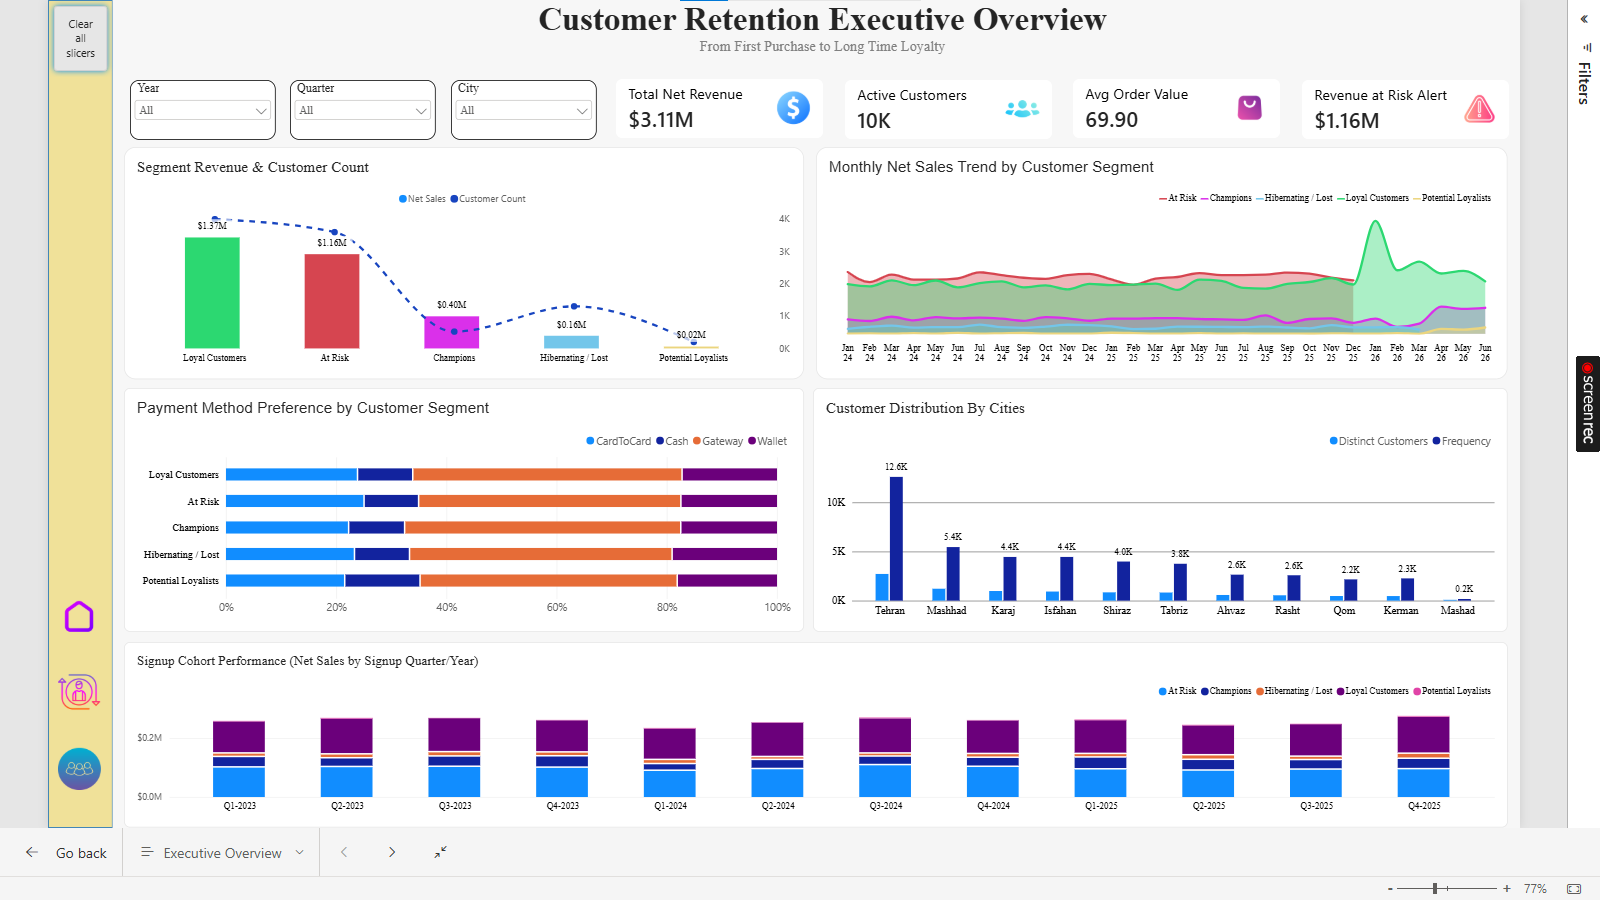

This screenshot's page, from the dashboard's own definition file:
{"tool":"powerbi","page":{"name":"Executive Overview","canvas":[1920,1080],"ordinal":0},"visuals":[{"type":"shape","box":[0,0,84.4,1080],"z":0,"group":"g3"},{"type":"cardVisual","fields":{"Data":["Measure Table.Net Sales"]},"box":[740.3,103.5,270,77],"z":0,"group":"g1"},{"type":"slicer","fields":{"Values":["dim_date.Date.Variation.Date Hierarchy.Year"]},"box":[106.3,104.6,190,77.6],"z":0,"group":"g2"},{"type":"lineClusteredColumnComboChart","title":"Segment Revenue & Customer Count","fields":{"Category":["dim_customers.Customer Segment"],"Y":["Measure Table.Net Sales"],"Y2":["Measure Table.Distinct Customers"]},"box":[99.6,191.4,886.8,302.7],"z":0},{"type":"slicer","fields":{"Values":["dim_date.Date.Variation.Date Hierarchy.Quarter"]},"box":[315.5,104.6,190,77.6],"z":1000,"group":"g2"},{"type":"cardVisual","fields":{"Data":["Measure Table.Distinct Customers"]},"box":[1038.5,105.5,270,77],"z":1000,"group":"g1"},{"type":"lineChart","title":"Monthly Net Sales Trend by Customer Segment","fields":{"Category":["dim_date.Month-Year"],"Series":["dim_customers.Customer Segment"],"Y":["Measure Table.Net Sales"]},"box":[1002,191.4,902.4,302.7],"z":1000},{"type":"image","box":[13.5,771.2,55,65],"z":1000,"group":"g3"},{"type":"cardVisual","fields":{"Data":["Measure Table.Avg Order Value"]},"box":[1336.7,103.5,270,77.6],"z":2000,"group":"g1"},{"type":"slicer","fields":{"Values":["dim_customers.City"]},"box":[524.8,104.6,190,77.6],"z":2000,"group":"g2"},{"type":"hundredPercentStackedBarChart","title":"Payment Method Preference by Customer Segment","fields":{"Category":["dim_customers.Customer Segment"],"Series":["fact_orders.PaymentMethod"],"Y":["Measure Table.Net Sales"]},"box":[99.6,505.9,886.8,318.4],"z":2000},{"type":"image","box":[13.5,870.3,55,65.8],"z":2000,"group":"g3"},{"type":"cardVisual","fields":{"Data":["Measure Table.At Rist Value"]},"box":[1634.9,105.5,270,77.6],"z":3000,"group":"g1"},{"type":"clusteredColumnChart","title":"Customer Distribution By Cities","fields":{"Category":["dim_customers.City"],"Y":["Measure Table.Distinct Customers","Measure Table.Frequency"]},"box":[998.1,505.9,906.3,318.4],"z":3000},{"type":"image","box":[13.5,970.3,55.7,65],"z":3000,"group":"g3"},{"type":"columnChart","title":"Signup Cohort Performance (Net Sales by Signup Quarter/Year)","fields":{"Category":["dim_customers.Quarter&Year"],"Series":["dim_customers.Customer Segment"],"Y":["Measure Table.Net Sales"]},"box":[99.6,837.9,1804.8,242.2],"z":4000},{"type":"textbox","title":"Title","box":[100,0,1820,75.5],"z":5000},{"type":"group","id":"g1","title":"KPI","box":[740.3,103.5,1164.6,79.6],"z":6000},{"type":"group","id":"g2","title":"Report Filters","box":[106.3,104.6,608.5,77.6],"z":7000},{"type":"group","id":"g3","title":"Navigation","box":[0,0,84.4,1080],"z":8000},{"type":"actionButton","box":[0,0,85,100.3],"z":8002}]}

Visuals, with their boxes on the page's 1920x1080 design canvas (x1, y1, x2, y2). These are canvas units, not pixel positions in the 1600x900 screenshot, which may show the page scaled, cropped or inside an application window:
shape: (0,0,84,1080)
cardVisual - Measure Table.Net Sales: (740,104,1010,180)
slicer - dim_date.Date.Variation.Date Hierarchy.Year: (106,105,296,182)
"Segment Revenue & Customer Count" lineClusteredColumnComboChart: (100,191,986,494)
slicer - dim_date.Date.Variation.Date Hierarchy.Quarter: (316,105,506,182)
cardVisual - Measure Table.Distinct Customers: (1038,106,1308,182)
"Monthly Net Sales Trend by Customer Segment" lineChart: (1002,191,1904,494)
image: (14,771,68,836)
cardVisual - Measure Table.Avg Order Value: (1337,104,1607,181)
slicer - dim_customers.City: (525,105,715,182)
"Payment Method Preference by Customer Segment" hundredPercentStackedBarChart: (100,506,986,824)
image: (14,870,68,936)
cardVisual - Measure Table.At Rist Value: (1635,106,1905,183)
"Customer Distribution By Cities" clusteredColumnChart: (998,506,1904,824)
image: (14,970,69,1035)
"Signup Cohort Performance (Net Sales by Signup Quarter/Year)" columnChart: (100,838,1904,1080)
"Title" textbox: (100,0,1920,76)
"KPI" group: (740,104,1905,183)
"Report Filters" group: (106,105,715,182)
"Navigation" group: (0,0,84,1080)
actionButton: (0,0,85,100)
